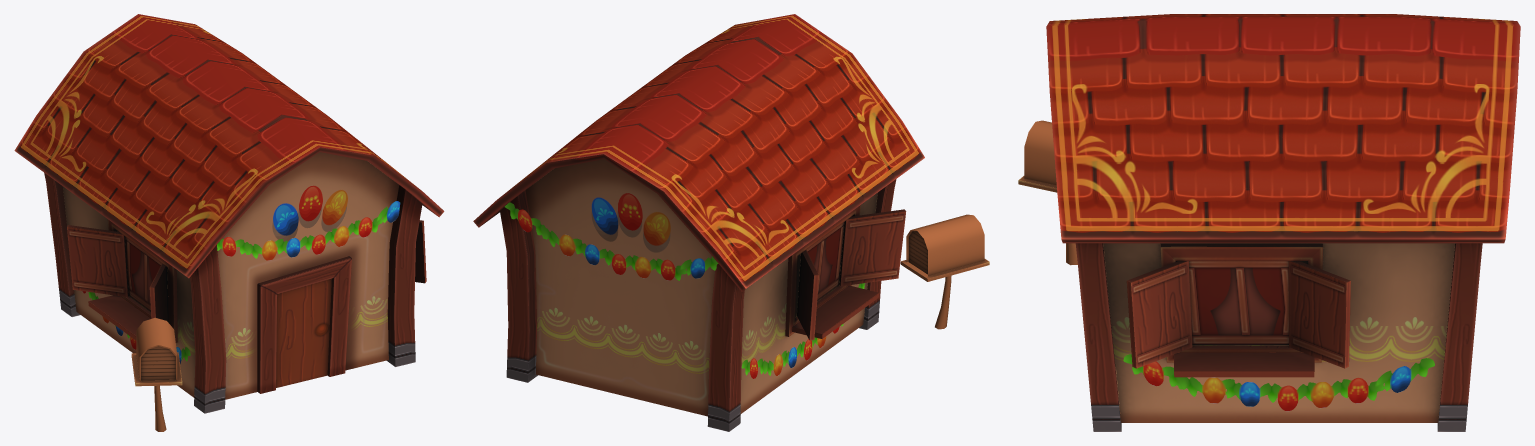
File: House_04_F.FBX
3 renders of one model, left to right at view 1: azimuth 30°, elevation 25°; view 2: azimuth 150°, elevation 25°; view 3: azimuth 270°, elevation 25°, orthographic. The views are drawn at different scales.
Visible parts, largest first — view 1: House_04, Egg_Rope_House_04; view 2: House_04, Egg_Rope_House_04; view 3: House_04, Egg_Rope_House_04.
Part boxes in pixels (x1=…): House_04: x1=14, y1=14, x2=444, y2=431; Egg_Rope_House_04: x1=82, y1=201, x2=400, y2=363; House_04: x1=473, y1=14, x2=989, y2=431; Egg_Rope_House_04: x1=504, y1=202, x2=864, y2=378; House_04: x1=1018, y1=14, x2=1520, y2=431; Egg_Rope_House_04: x1=1123, y1=354, x2=1434, y2=411.
Size of the model in its own units: 199 by 153 by 204.
